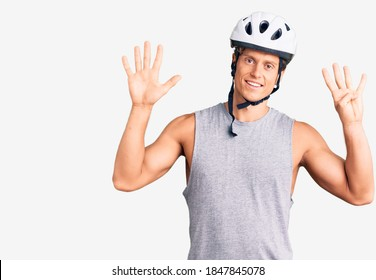helmet: (230, 13, 297, 104)
